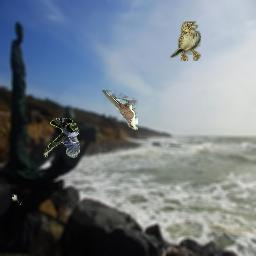Crow: (43, 118, 80, 158)
Cuckoo: (102, 90, 138, 130)
Sparrow: (169, 21, 201, 61)
Swallow: (12, 194, 23, 205)
